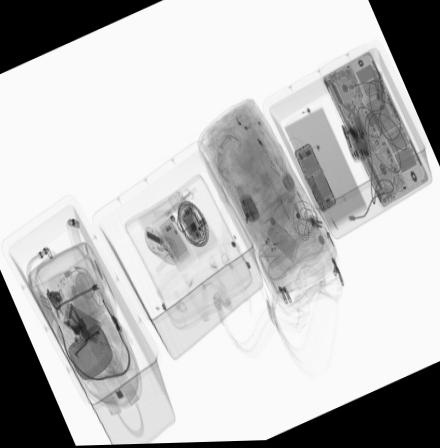Lighter: (235, 187, 257, 226)
